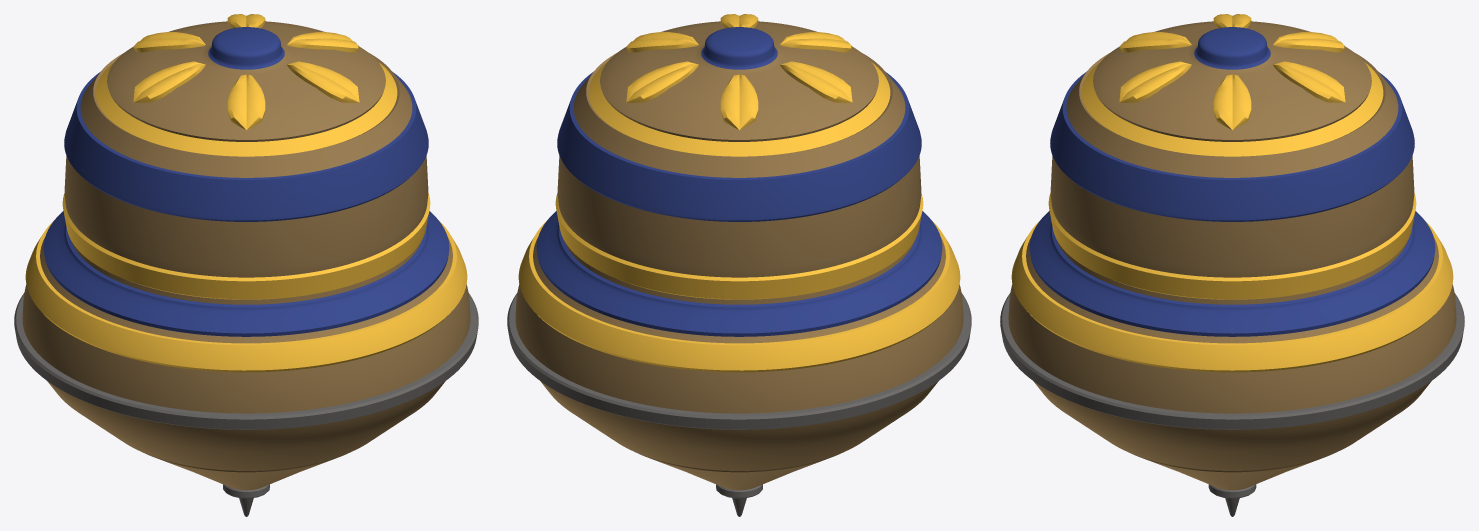
Rendered from gasing_selangor.glb.
3 views of the same model, side by side, from view 1: azimuth 30°, elevation 25°; view 2: azimuth 150°, elevation 25°; view 3: azimuth 270°, elevation 25° (orthographic).
Visible parts, largest first — view 1: Gasing_selangor; view 2: Gasing_selangor; view 3: Gasing_selangor.
Boxes of the visible parts, bbox=[...] form: Gasing_selangor: bbox=[14, 14, 478, 516]; Gasing_selangor: bbox=[507, 14, 971, 516]; Gasing_selangor: bbox=[1000, 14, 1464, 516].
Size of the model in its own units: 0.88 by 1 by 0.88.
